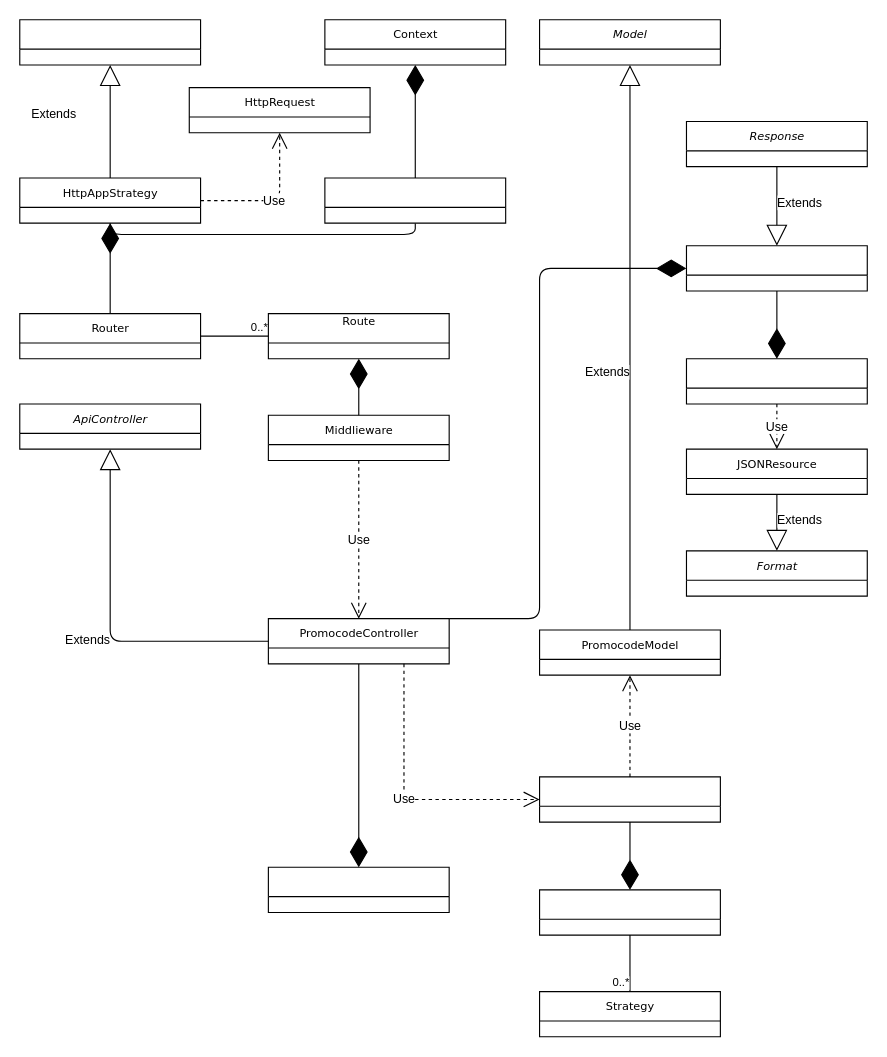
Some shapes in this 887 by 1057 pixel diagram are drawn without their labels. The shapes that lost their labels are listed below. From the top down, each one's centre as x and y in pixels, then its label:
the point at 110,42: Application
the point at 415,200: ApplicationBuilder
the point at 776,268: HttpResponse
the point at 776,381: Converter
the point at 629,799: PromocodeService
the point at 358,889: RequestValidator
the point at 629,912: StrategyFactory
